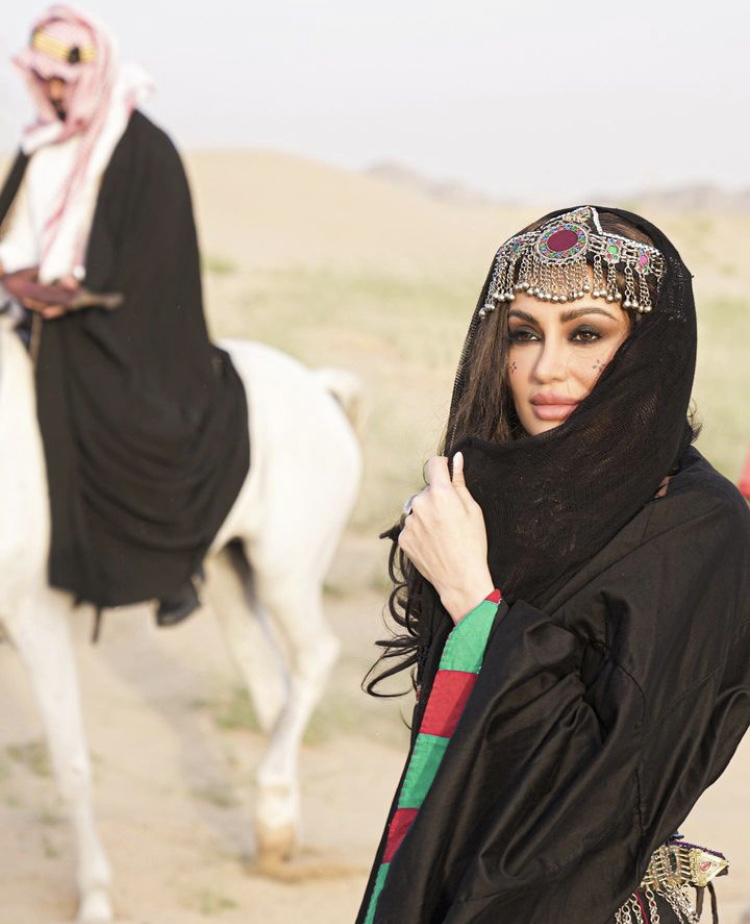Saudi_Founding_Day: (350, 202, 750, 924), (1, 3, 253, 629)
